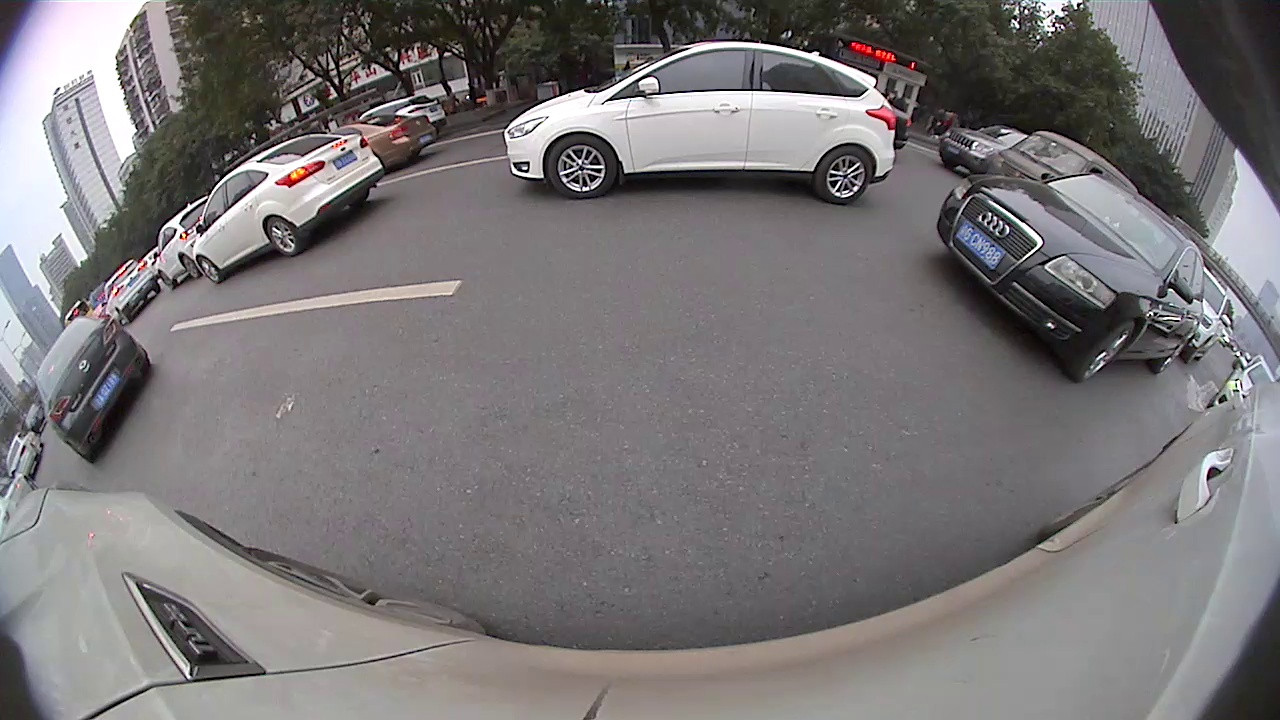car: (500, 36, 898, 199), (935, 170, 1208, 386), (191, 131, 385, 285), (34, 317, 154, 461), (976, 129, 1143, 198), (322, 113, 440, 175), (153, 195, 219, 290), (939, 119, 1032, 175), (100, 256, 161, 323), (2, 431, 44, 481)
front: (546, 132, 618, 201), (1077, 320, 1135, 385), (198, 257, 223, 284)
rear: (813, 144, 874, 205), (267, 216, 301, 256), (1156, 340, 1189, 374), (182, 255, 200, 279)
